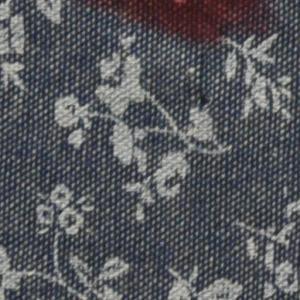Stain: (67, 1, 283, 57)
